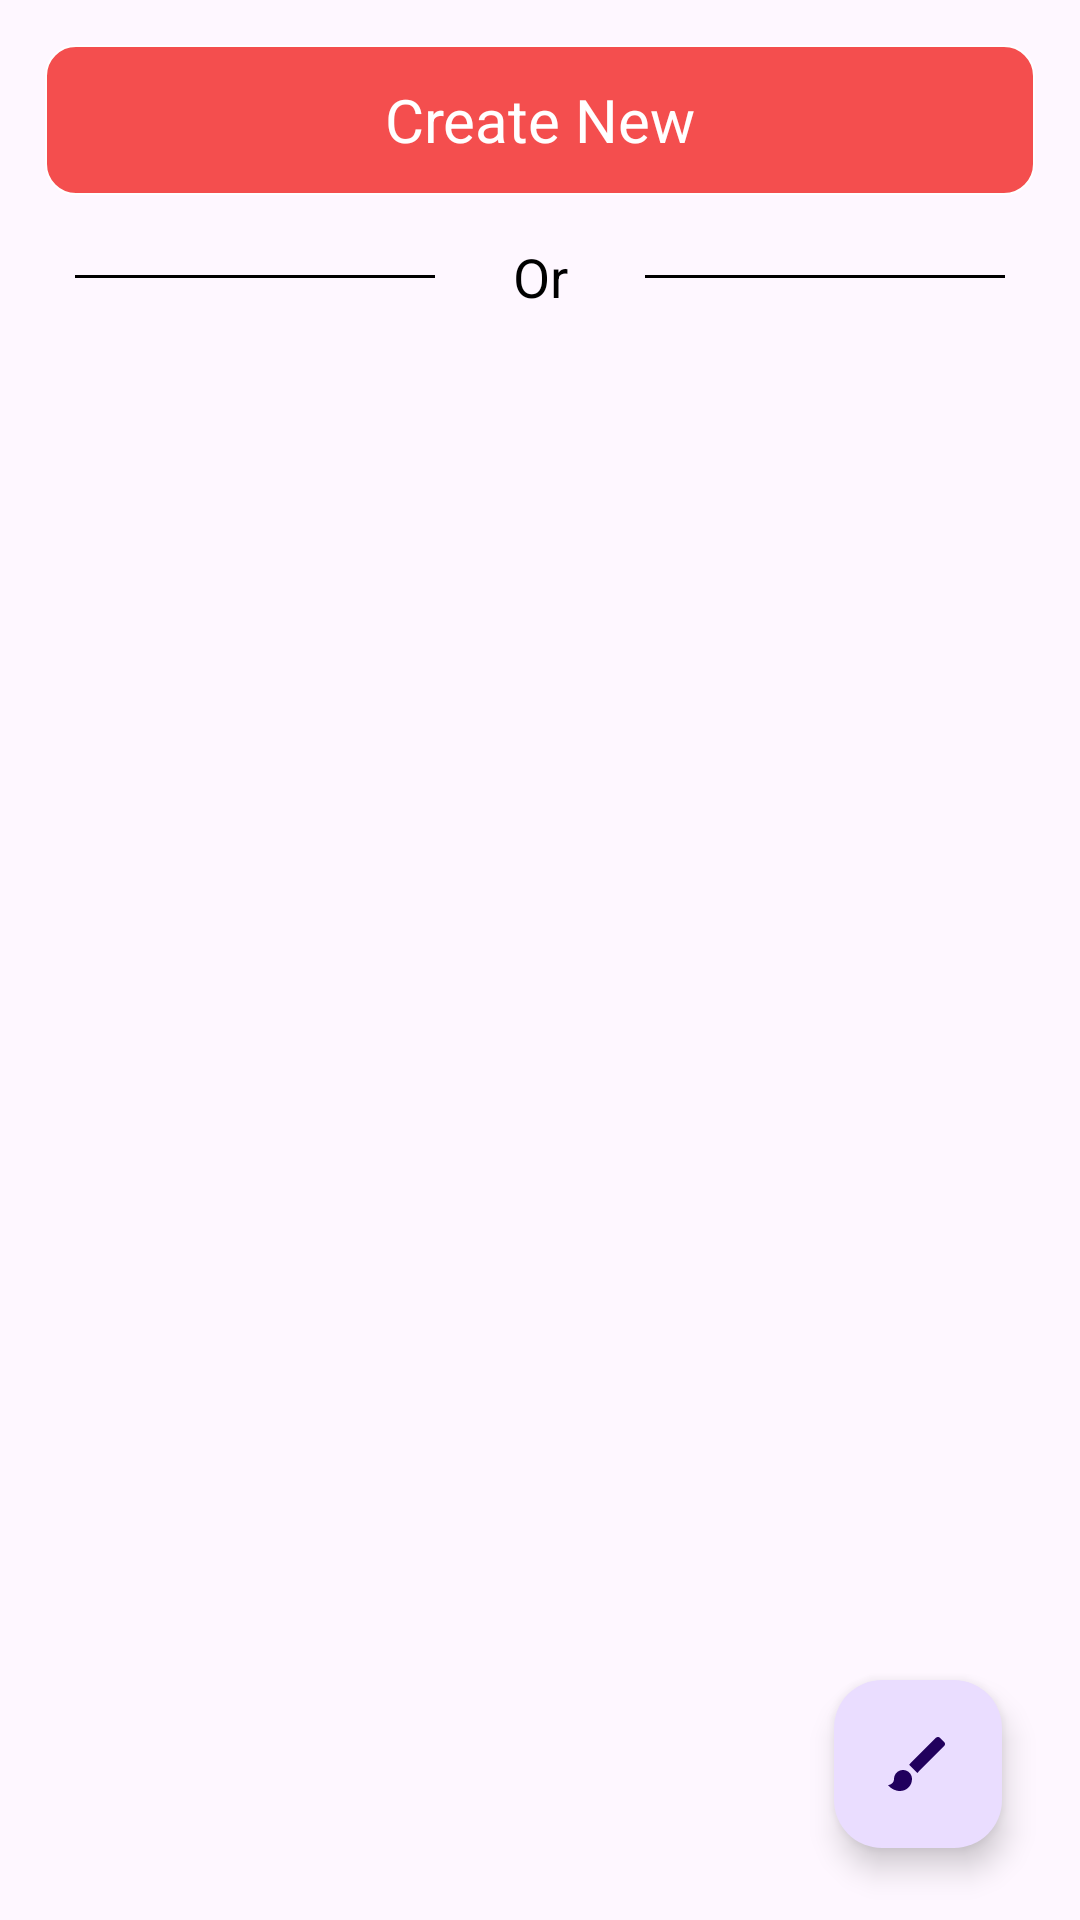

Icons on this 1080*1920 Android screen, each with its box as (x1, y1, x2, y2):
brush: (834, 1680, 1002, 1848)
